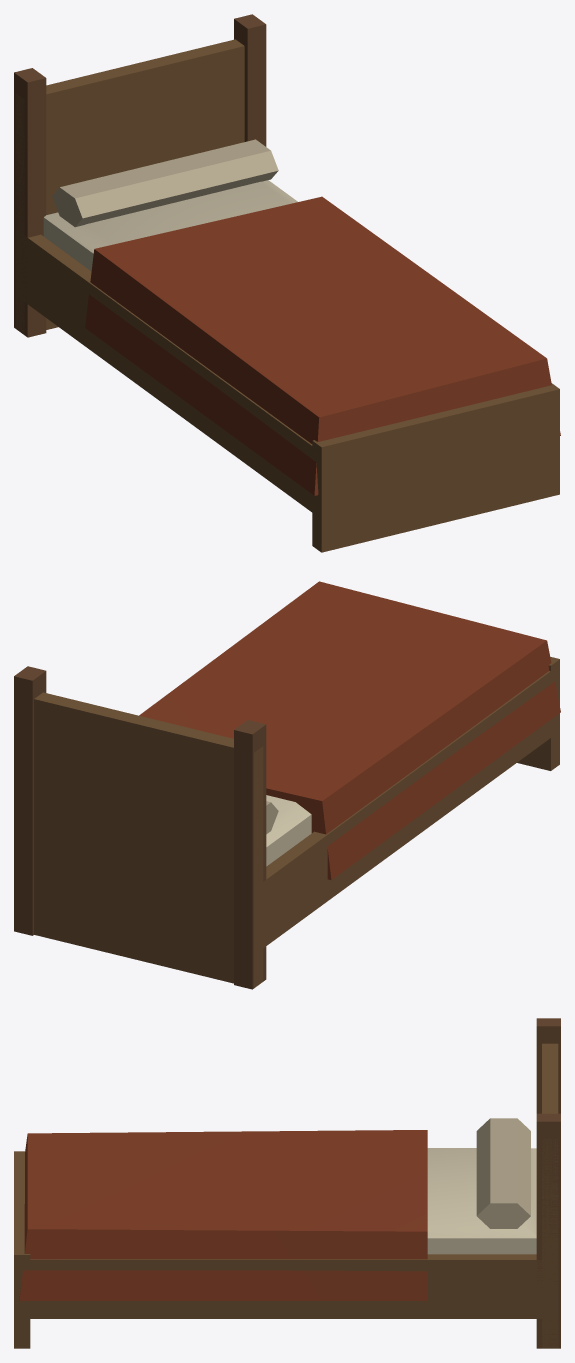
The model's file is Bed.fbx.
3 renders of one model, top to bottom at view 1: azimuth 30°, elevation 25°; view 2: azimuth 150°, elevation 25°; view 3: azimuth 270°, elevation 25°, orthographic. The views are drawn at different scales.
Parts seen in each view (by area): view 1: Bed; view 2: Bed; view 3: Bed.
Part boxes in pixels (box(x1,y1,x2,y2)): Bed: box(14, 14, 560, 552); Bed: box(14, 581, 560, 989); Bed: box(14, 1018, 560, 1348).
Size of the model in its own units: 0.93 by 0.92 by 2.01.
